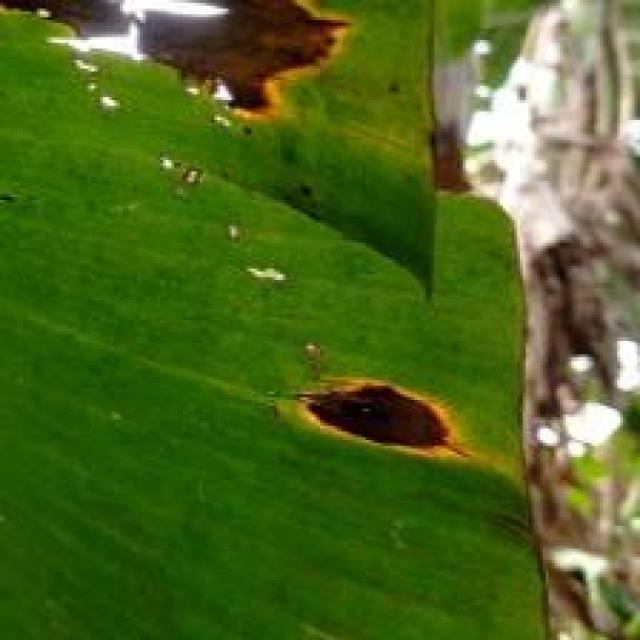Bacterial_spot: (0, 0, 354, 134), (281, 361, 484, 479)
